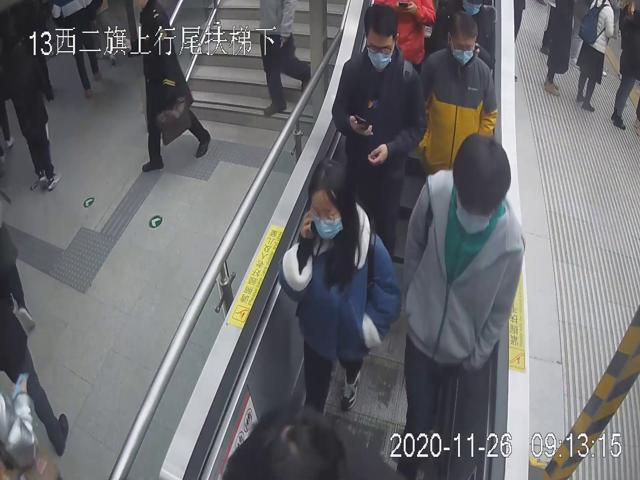person: (401, 131, 526, 480), (277, 158, 401, 419), (332, 3, 425, 252), (419, 5, 498, 176)
